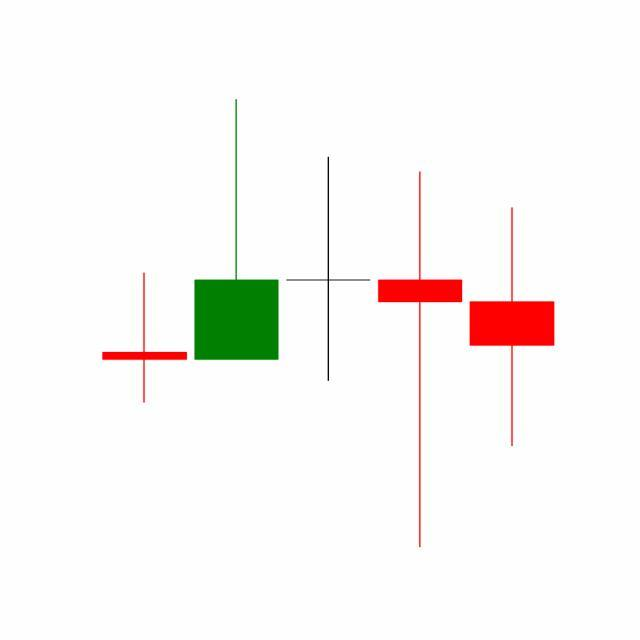Spinning Top: (466, 206, 559, 450)
